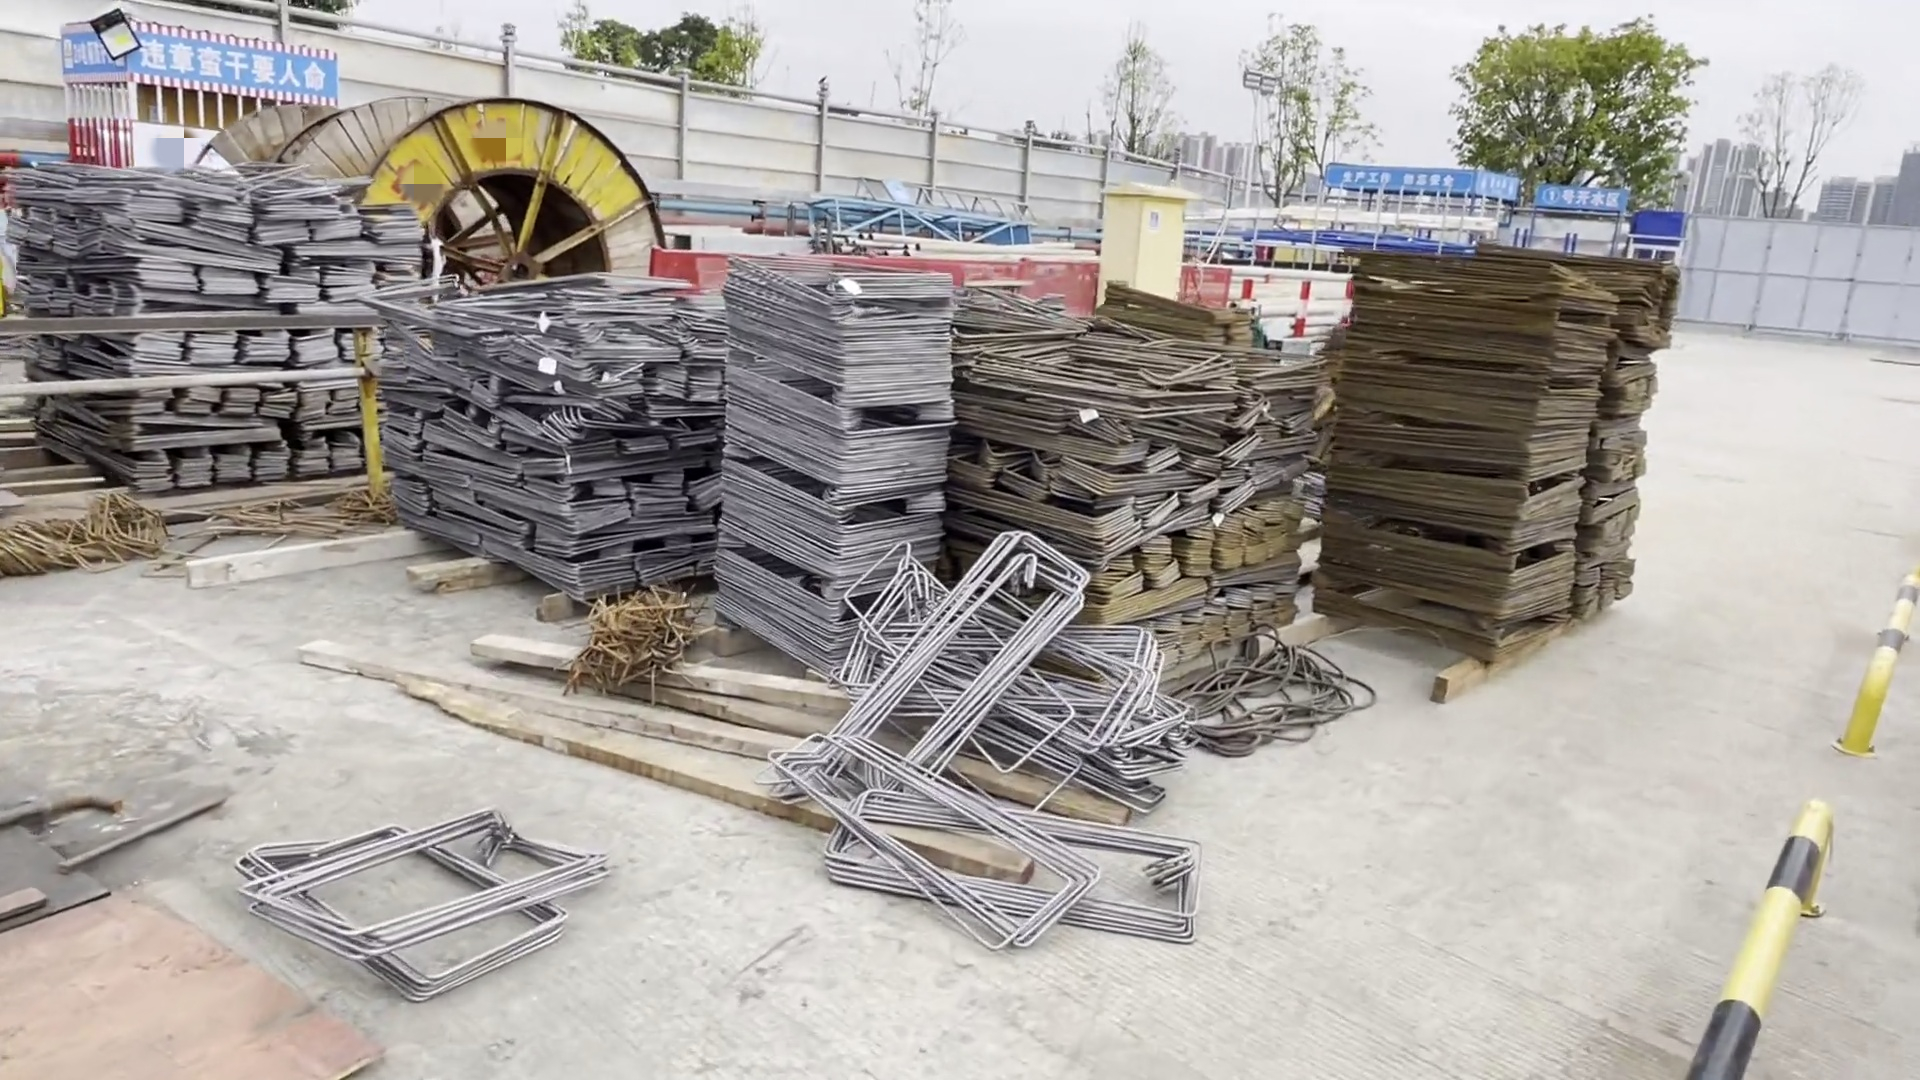ebox: (1101, 181, 1188, 301)
fence: (657, 251, 1093, 310)
slogan: (54, 32, 345, 102), (1327, 169, 1484, 196)
